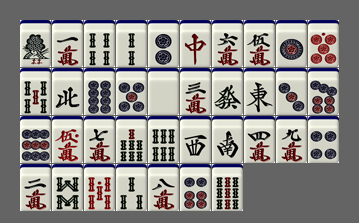0m: (52, 116, 83, 163)
0p: (308, 20, 339, 67)
0s: (84, 164, 115, 211)
1m: (52, 20, 83, 67)
1p: (276, 20, 307, 67)
1s: (20, 20, 51, 67)
1z: (244, 68, 275, 115)
2m: (20, 164, 51, 211)
2p: (148, 20, 179, 67)
2s: (116, 20, 147, 67)
2z: (212, 116, 243, 163)
3m: (180, 68, 211, 115)
3p: (276, 68, 307, 115)
3s: (116, 164, 147, 211)
3z: (180, 116, 211, 163)
4m: (244, 116, 275, 163)
4p: (308, 116, 339, 163)
4s: (84, 20, 115, 67)
4z: (52, 68, 83, 115)
5m: (244, 20, 275, 67)
5p: (116, 68, 147, 115)
5s: (20, 68, 51, 115)
5z: (148, 68, 179, 115)
6m: (212, 20, 243, 67)
6p: (180, 164, 211, 211)
6s: (148, 116, 179, 163)
6z: (212, 68, 243, 115)
7m: (84, 116, 115, 163)
7p: (308, 68, 339, 115)
7s: (116, 116, 147, 163)
7z: (180, 20, 211, 67)
8m: (148, 164, 179, 211)
8p: (84, 68, 115, 115)
8s: (52, 164, 83, 211)
9m: (276, 116, 307, 163)
9p: (20, 116, 51, 163)
9s: (212, 164, 243, 211)
